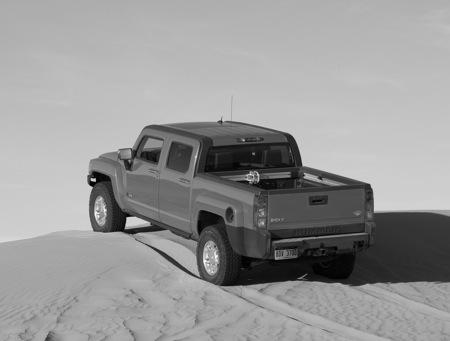car: (85, 118, 379, 290)
